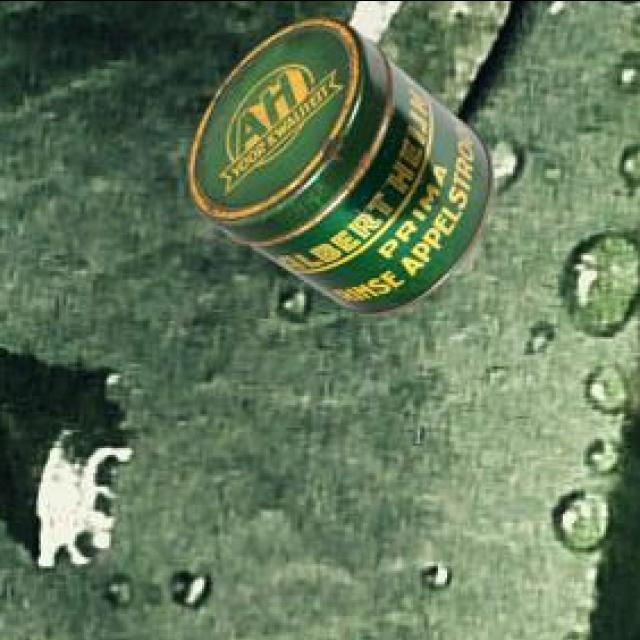logam: (185, 19, 489, 317)
